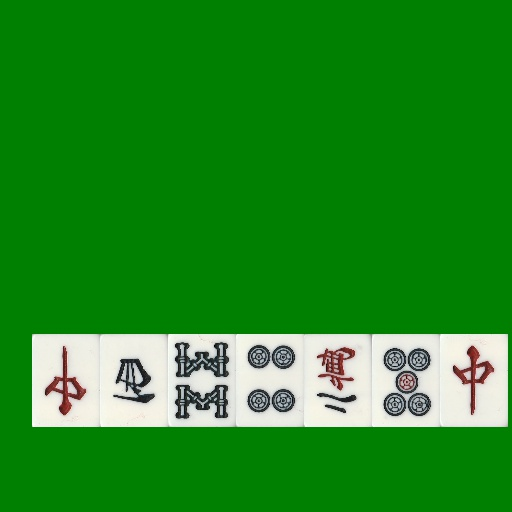2m: (304, 334, 372, 427)
4p: (236, 334, 304, 427)
5p: (372, 334, 440, 427)
8s: (168, 334, 236, 427)
tyun: (32, 334, 100, 427), (440, 334, 508, 427)
west: (100, 334, 168, 427)
